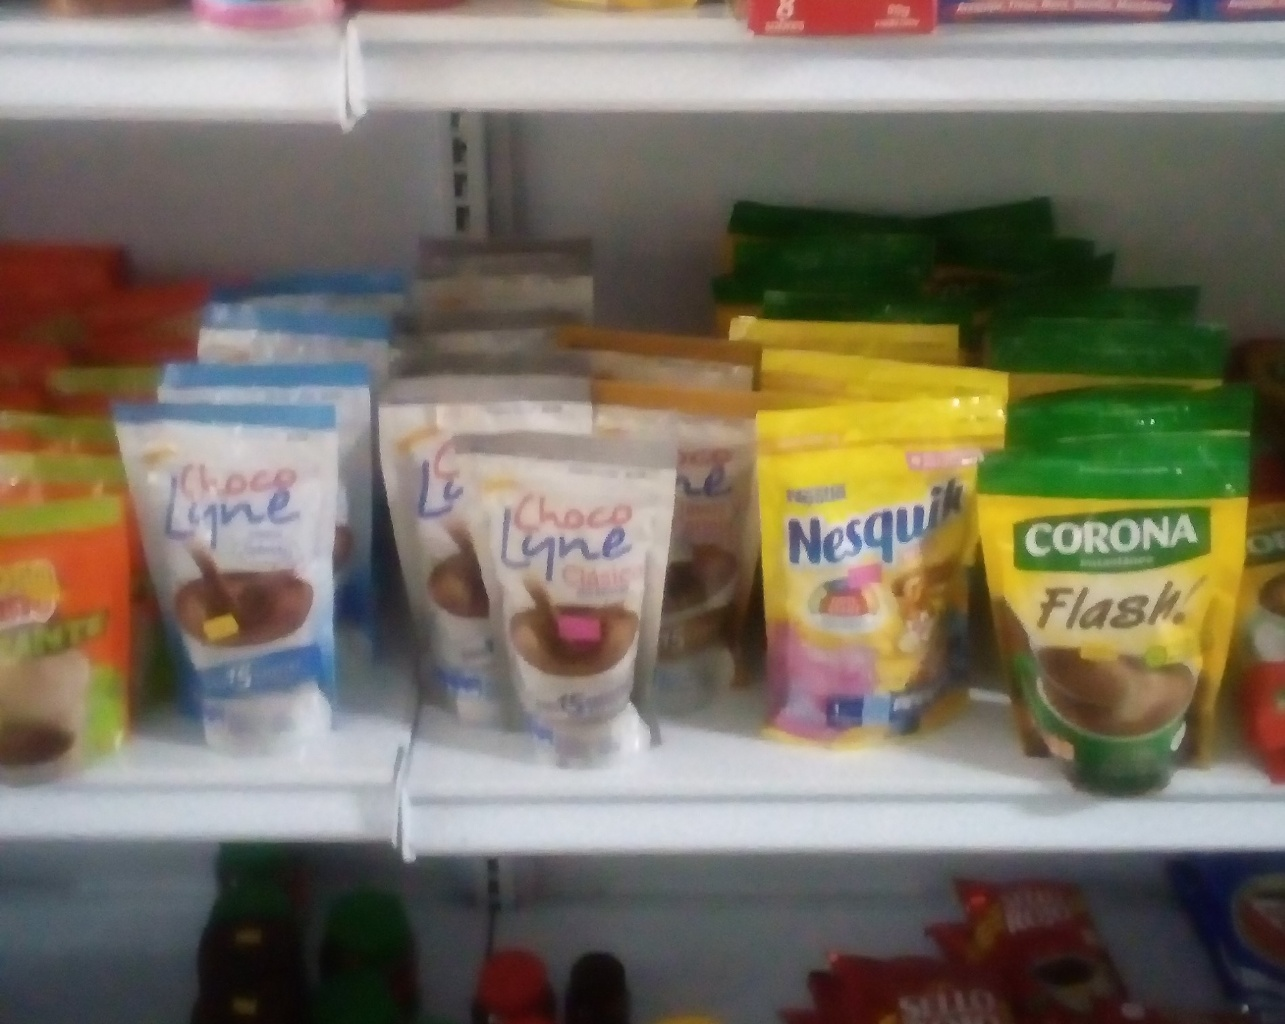COL0170102DYP10000: (1, 499, 135, 773)
COL0170305DYP20000: (748, 400, 1025, 748)
